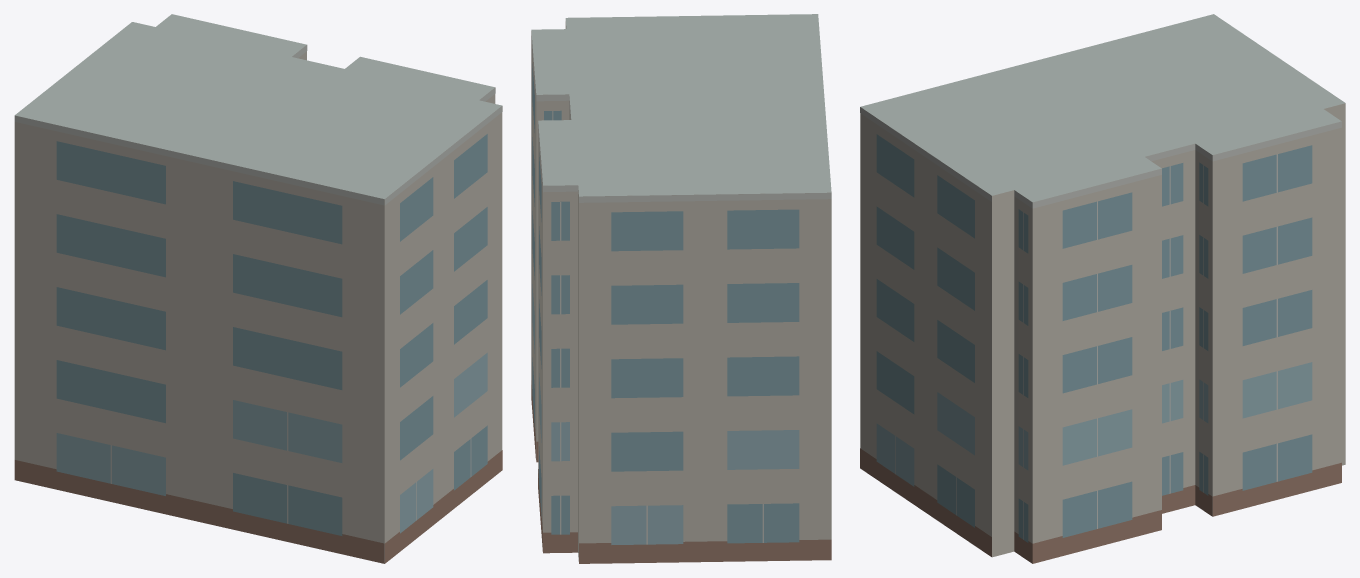
Rendered from survey-upis-32740575.glb.
The picture shows the model from 3 angles, left to right: view 1: azimuth 30°, elevation 25°; view 2: azimuth 150°, elevation 25°; view 3: azimuth 270°, elevation 25°; orthographic projection.
Parts seen in each view (by area): view 1: survey-upis-32740575.tmp; view 2: survey-upis-32740575.tmp; view 3: survey-upis-32740575.tmp.
Part boxes in pixels (left/top/right/bottom): survey-upis-32740575.tmp: left=14, top=14, right=502, bottom=563; survey-upis-32740575.tmp: left=531, top=14, right=831, bottom=563; survey-upis-32740575.tmp: left=860, top=14, right=1345, bottom=563.
Bounding box in the file's own units: 15.71 × 14.05 × 17.12.
